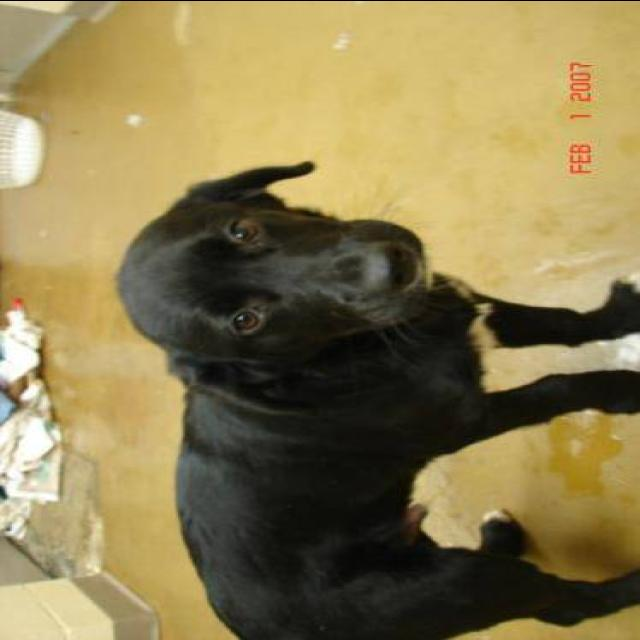dog: (94, 154, 640, 640)
